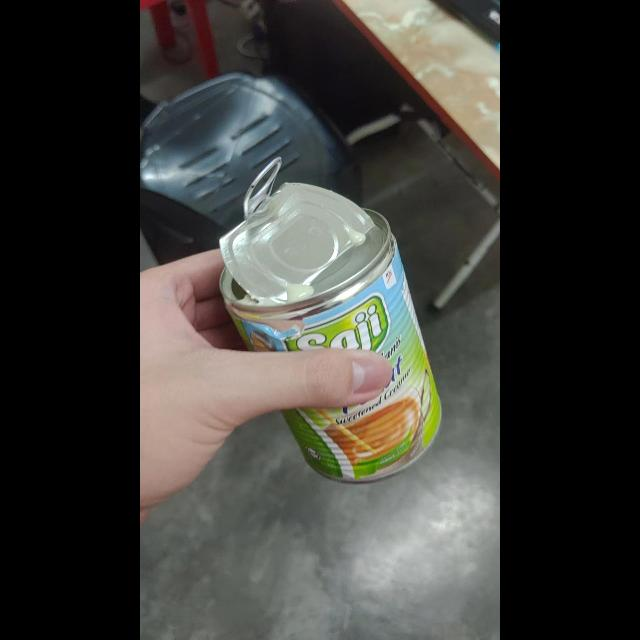aba de lata: (241, 156, 285, 218)
lata: (222, 156, 444, 480)
